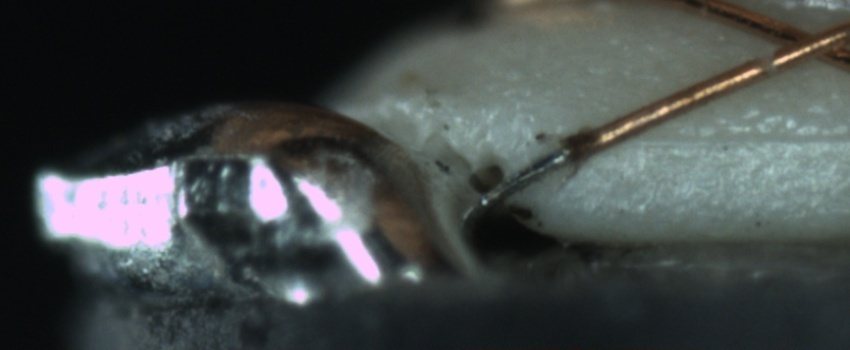CL: (759, 12, 848, 71)
DL: (622, 106, 849, 170)
TS: (477, 148, 575, 206)
TTCW: (463, 111, 634, 222)
